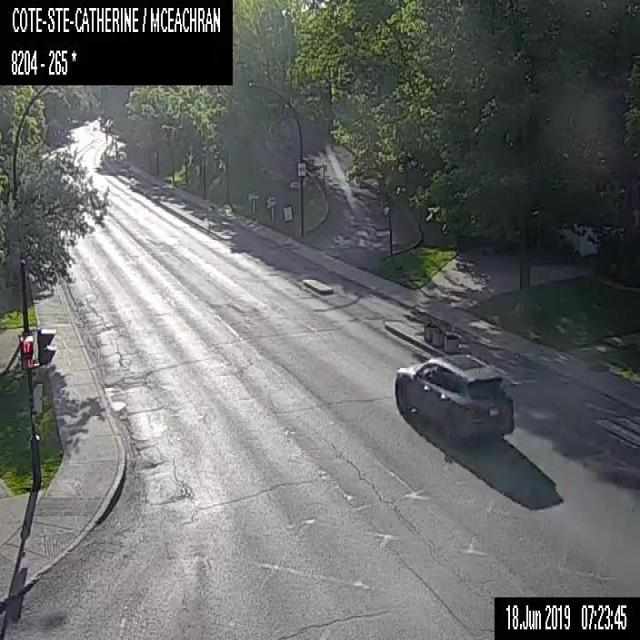vehicle: (394, 354, 513, 446)
